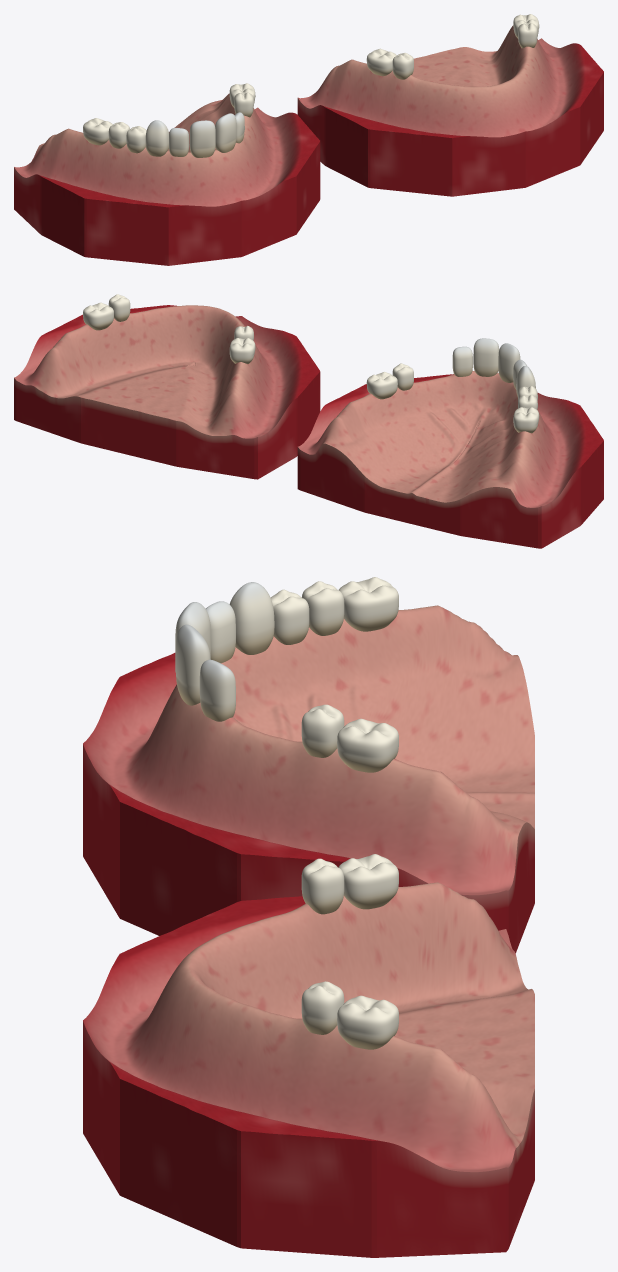
File: estudo-parcial.glb
3 renders of one model, top to bottom at view 1: azimuth 30°, elevation 25°; view 2: azimuth 150°, elevation 25°; view 3: azimuth 270°, elevation 25°, orthographic. The views are drawn at different scales.
Visible parts, largest first — view 1: Base_Inferior, Base_Superior, Dente_Superior_6, Dente_Superior_7, Dente_Superior_4, Dente_Inferior_1, Dente_Superior_1, Dente_Superior_5, Dente_Inferior_2, Dente_Superior_3, Dente_Superior_2, Dente_Inferior_11 (+1 smaller); view 2: Base_Inferior, Base_Superior, Dente_Superior_7, Dente_Inferior_12, Dente_Superior_12, Dente_Superior_6, Dente_Inferior_1, Dente_Superior_1, Dente_Superior_8, Dente_Inferior_11, Dente_Superior_11, Dente_Superior_4; view 3: Base_Inferior, Base_Superior, Dente_Superior_12, Dente_Inferior_12, Dente_Inferior_1, Dente_Superior_1, Dente_Superior_4, Dente_Superior_7, Dente_Inferior_2, Dente_Superior_8, Dente_Superior_11, Dente_Inferior_11 (+4 smaller).
Part boxes in pixels (x1,y1,x2,y2): Base_Inferior: (297,25,603,196); Base_Superior: (14,93,320,265); Dente_Superior_6: (189,120,215,157); Dente_Superior_7: (215,113,236,152); Dente_Superior_4: (145,120,168,156); Dente_Inferior_1: (366,48,396,76); Dente_Superior_1: (83,118,112,145); Dente_Superior_5: (169,128,189,156); Dente_Inferior_2: (392,53,413,79); Dente_Superior_3: (126,126,146,153); Dente_Superior_2: (108,122,129,148); Dente_Inferior_11: (518,23,537,48); Base_Inferior: (14,305,320,479); Base_Superior: (297,371,603,548); Dente_Superior_7: (473,338,499,376); Dente_Inferior_12: (83,302,113,330); Dente_Superior_12: (366,372,397,399); Dente_Superior_6: (498,343,520,382); Dente_Inferior_1: (229,338,255,363); Dente_Superior_1: (513,407,539,433); Dente_Superior_8: (452,346,472,376); Dente_Inferior_11: (108,294,130,321); Dente_Superior_11: (392,363,413,390); Dente_Superior_4: (516,366,535,396); Base_Inferior: (83,882,534,1257); Base_Superior: (83,605,534,953); Dente_Superior_12: (337,718,398,772); Dente_Inferior_12: (337,995,398,1049); Dente_Inferior_1: (338,854,398,909); Dente_Superior_1: (339,577,398,631); Dente_Superior_4: (229,582,274,654); Dente_Superior_7: (175,624,210,705); Dente_Inferior_2: (301,858,344,914); Dente_Superior_8: (199,659,235,721); Dente_Superior_11: (301,704,344,757); Dente_Inferior_11: (301,981,344,1034).
Size of the model in its own units: 0.1349 by 0.0286 by 0.049.
